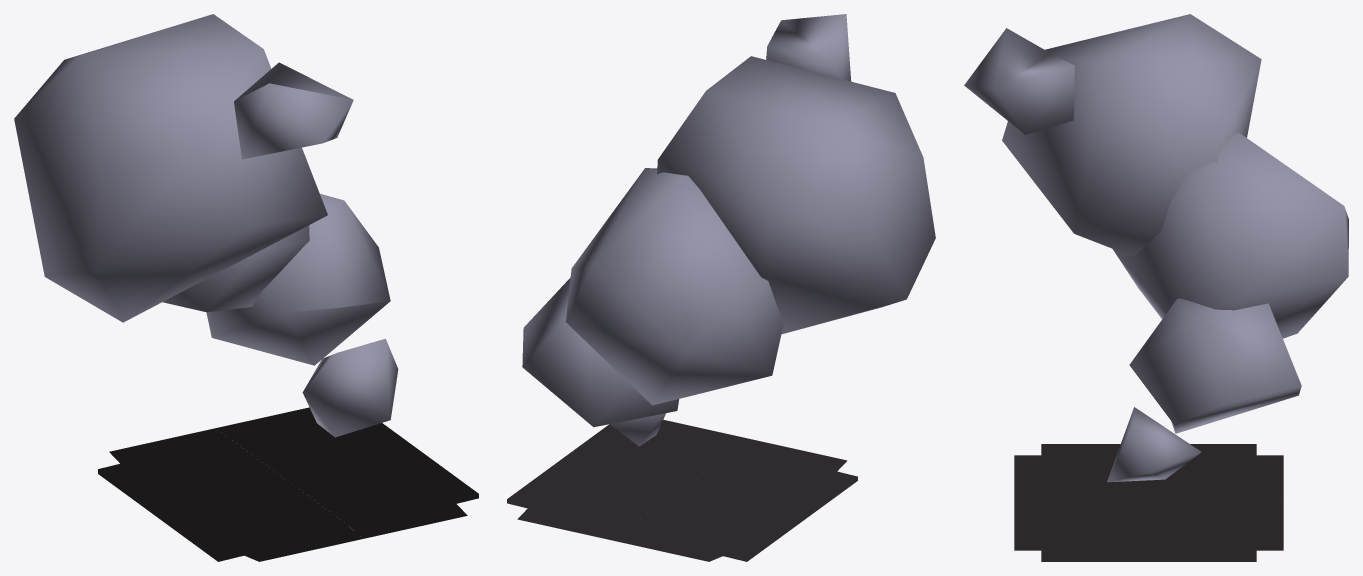
File: smoke-puff-pixor-blocky_lod2.glb
3 renders of one model, left to right at view 1: azimuth 30°, elevation 25°; view 2: azimuth 150°, elevation 25°; view 3: azimuth 270°, elevation 25°, orthographic. The views are drawn at different scales.
Parts seen in each view (by area): view 1: Smoke, Smoke scorch; view 2: Smoke, Smoke scorch; view 3: Smoke, Smoke scorch.
Boxes of the visible parts, x1=… form: Smoke: x1=14, y1=14, x2=398, y2=437; Smoke scorch: x1=98, y1=407, x2=478, y2=561; Smoke: x1=522, y1=14, x2=935, y2=446; Smoke scorch: x1=507, y1=420, x2=857, y2=561; Smoke: x1=964, y1=14, x2=1348, y2=482; Smoke scorch: x1=1014, y1=444, x2=1283, y2=561.
Bounding box in the file's own units: 0.8345 × 1.03 × 0.8284.
